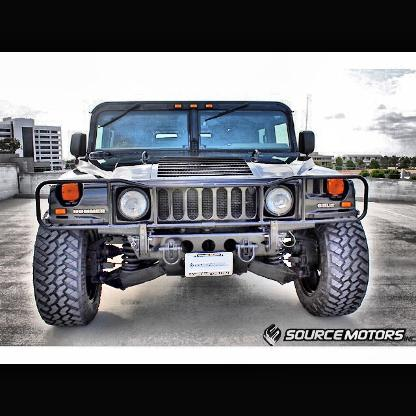AM General Hummer SUV 2000: (34, 101, 371, 330)
